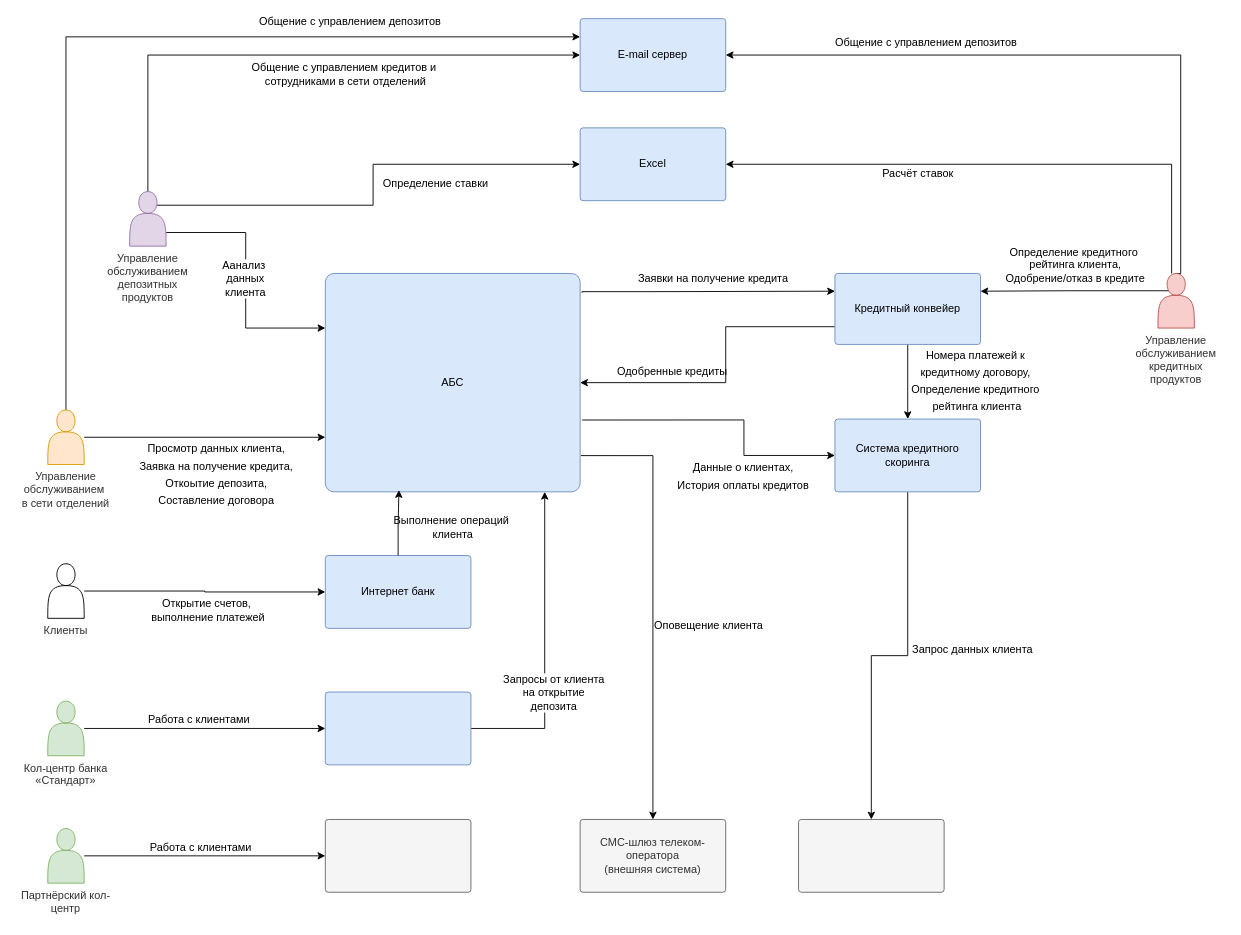
The diagram is 1241 pixels wide and 935 high, and some of its shapes have lost their labels. Each missing label, with the centre of its shape:
API бюро кредитных историй (внешняя система): point (871, 855)
Система кол-центра: point (397, 728)
Собственная система партнерского кол-центра (внешняя система): point (397, 855)
